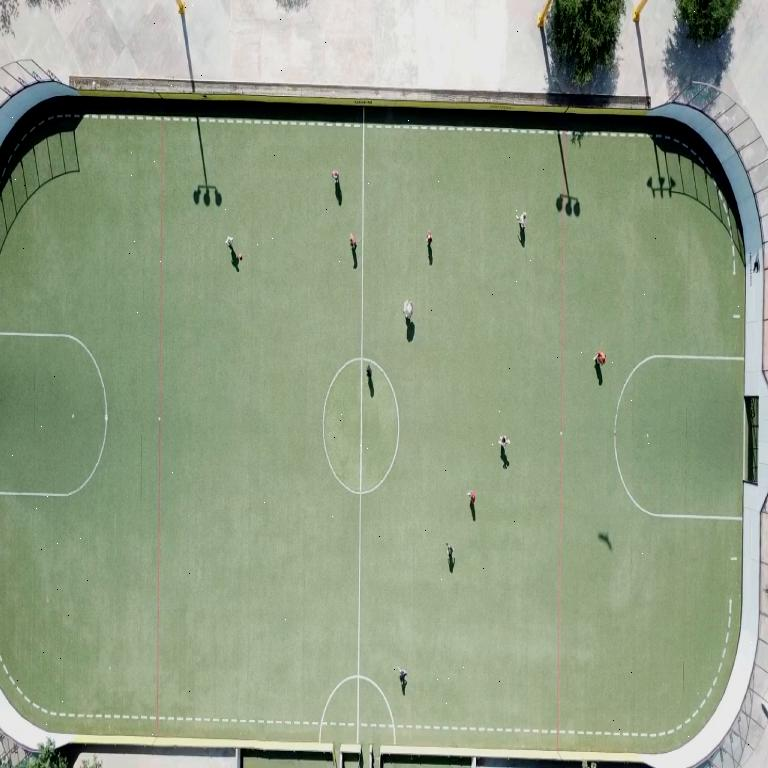AC: (614, 356, 743, 520), (0, 332, 107, 498)
B: (238, 253, 242, 259)
MC: (356, 107, 364, 742)
P: (404, 300, 413, 323), (594, 349, 606, 365), (516, 212, 526, 229), (398, 667, 407, 683), (498, 436, 510, 447), (447, 543, 454, 559), (350, 233, 356, 249), (468, 491, 475, 504), (225, 236, 232, 249), (333, 170, 339, 184), (366, 364, 372, 378), (428, 231, 432, 245)
